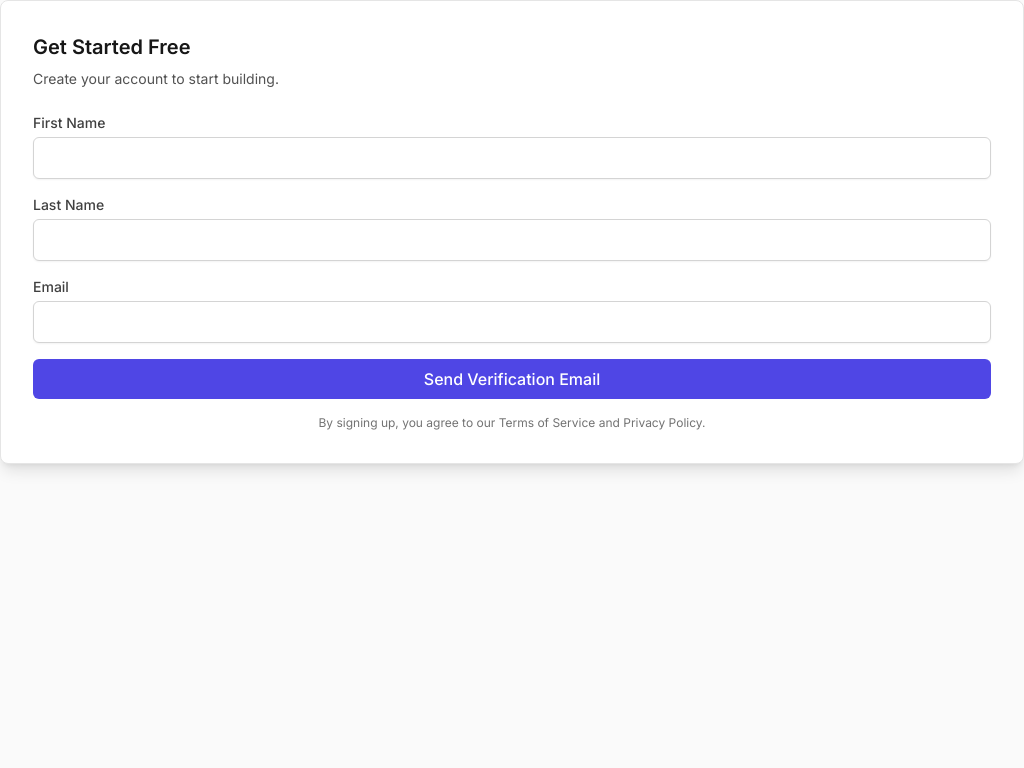
Test: RegistrationFormEmbed › Form Validation › shows error when first name is empty
What coordinates should you click on to do the following:
click the button "Send Verification Email"
I would click on:
 (512, 379)
Its box is x1=33 y1=359 x2=991 y2=399.
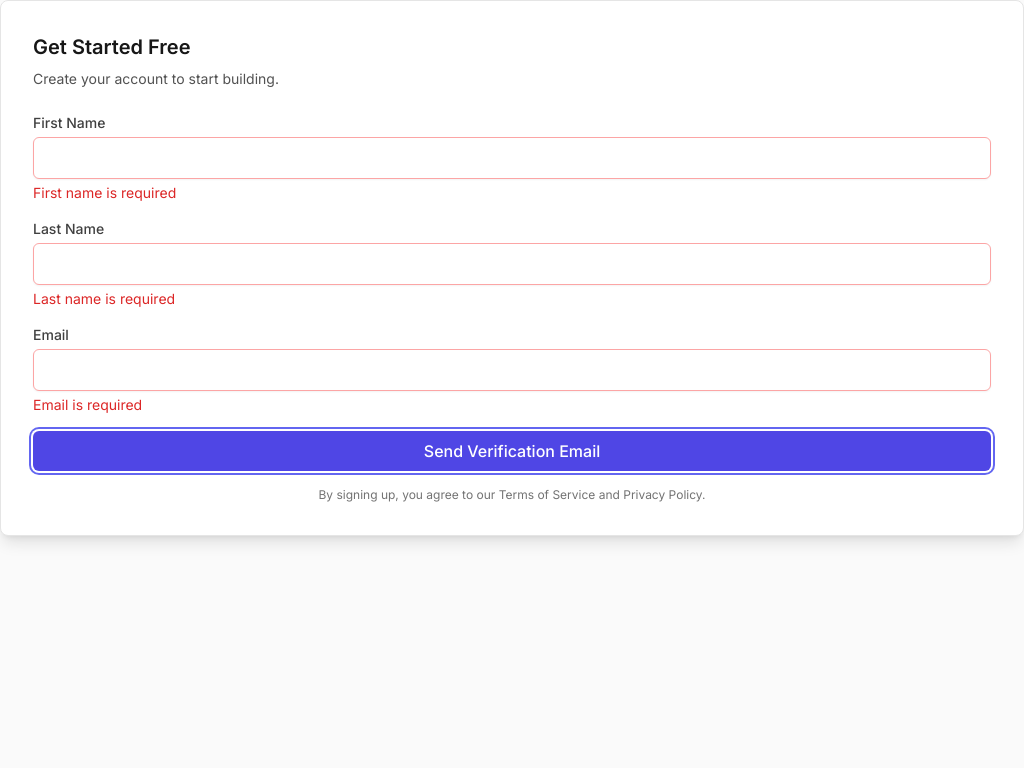
Now the text "First name is required" is shown, box x1=33 y1=184 x2=176 y2=201
